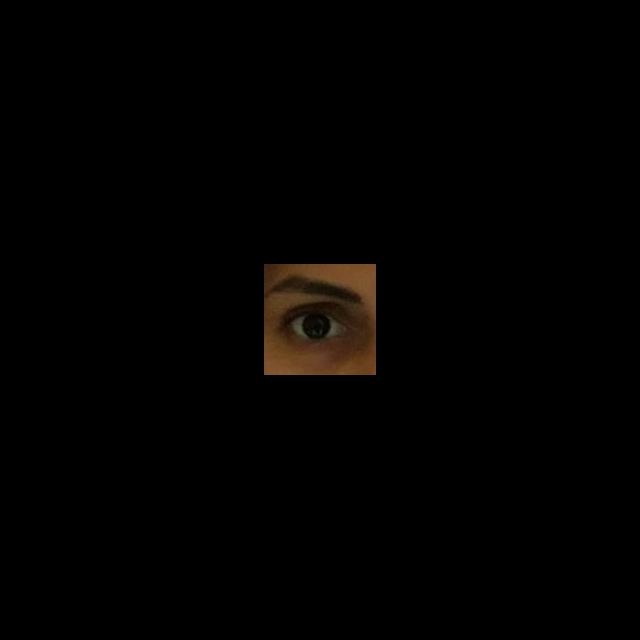eye: (289, 312, 342, 341)
iris: (303, 315, 331, 339)
